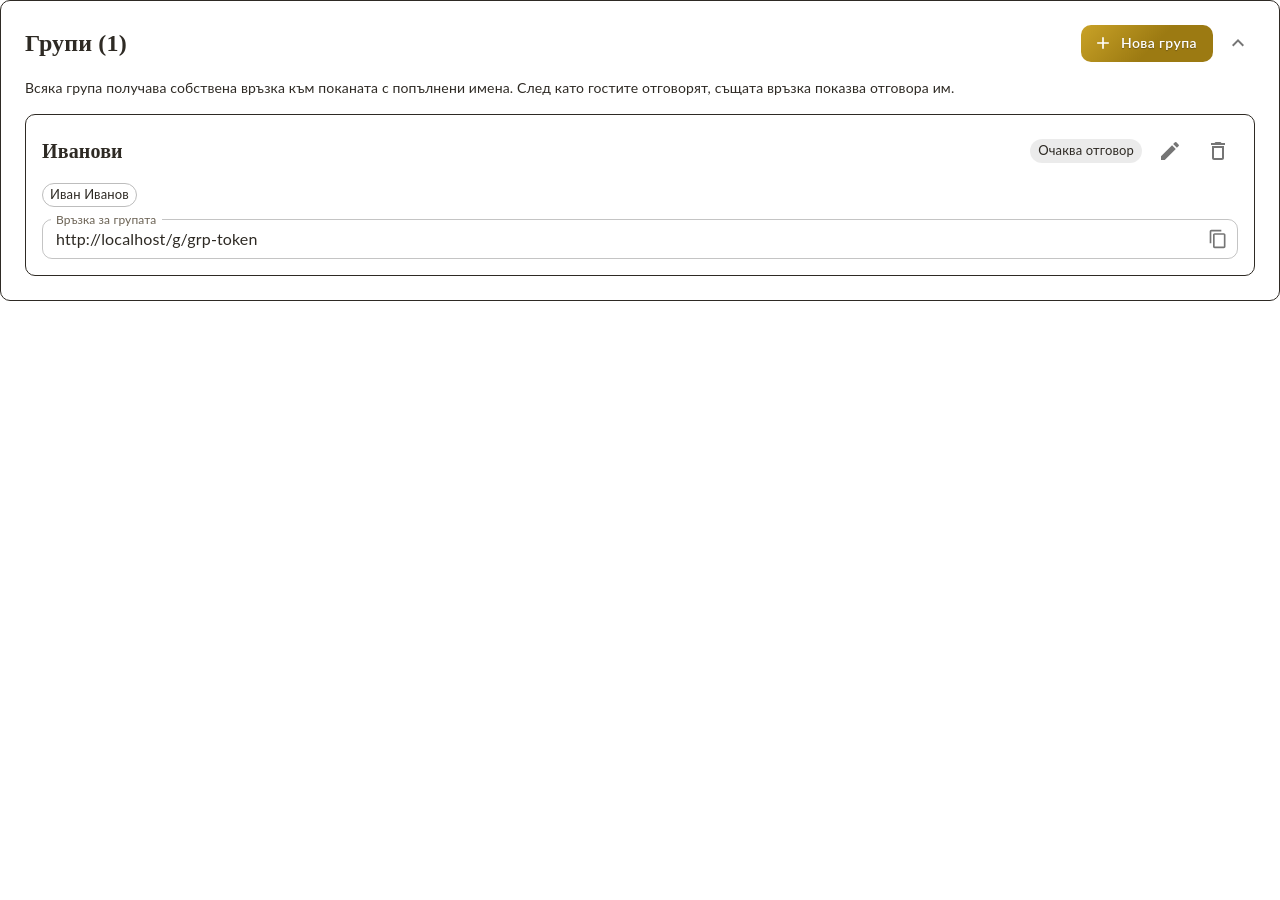
Test: GuestGroupsPanel › keeps the group and shows the error when deleting fails
Step 1. Click the button named "Изтрий Иванови" → point(1218, 150), box [1198,130,1238,170]
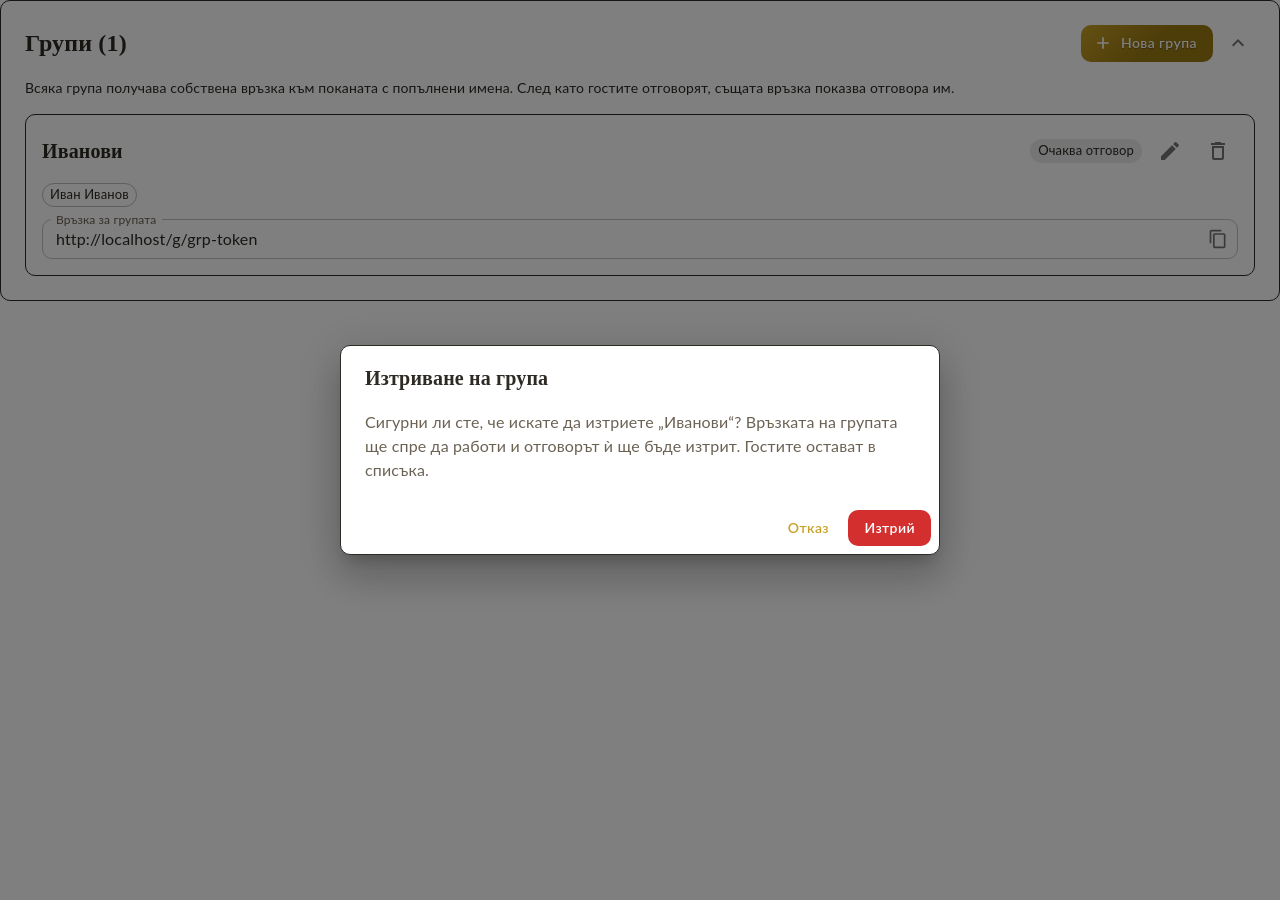
Step 2. Click the button "Изтрий" → point(890, 528), box [848,510,931,546]
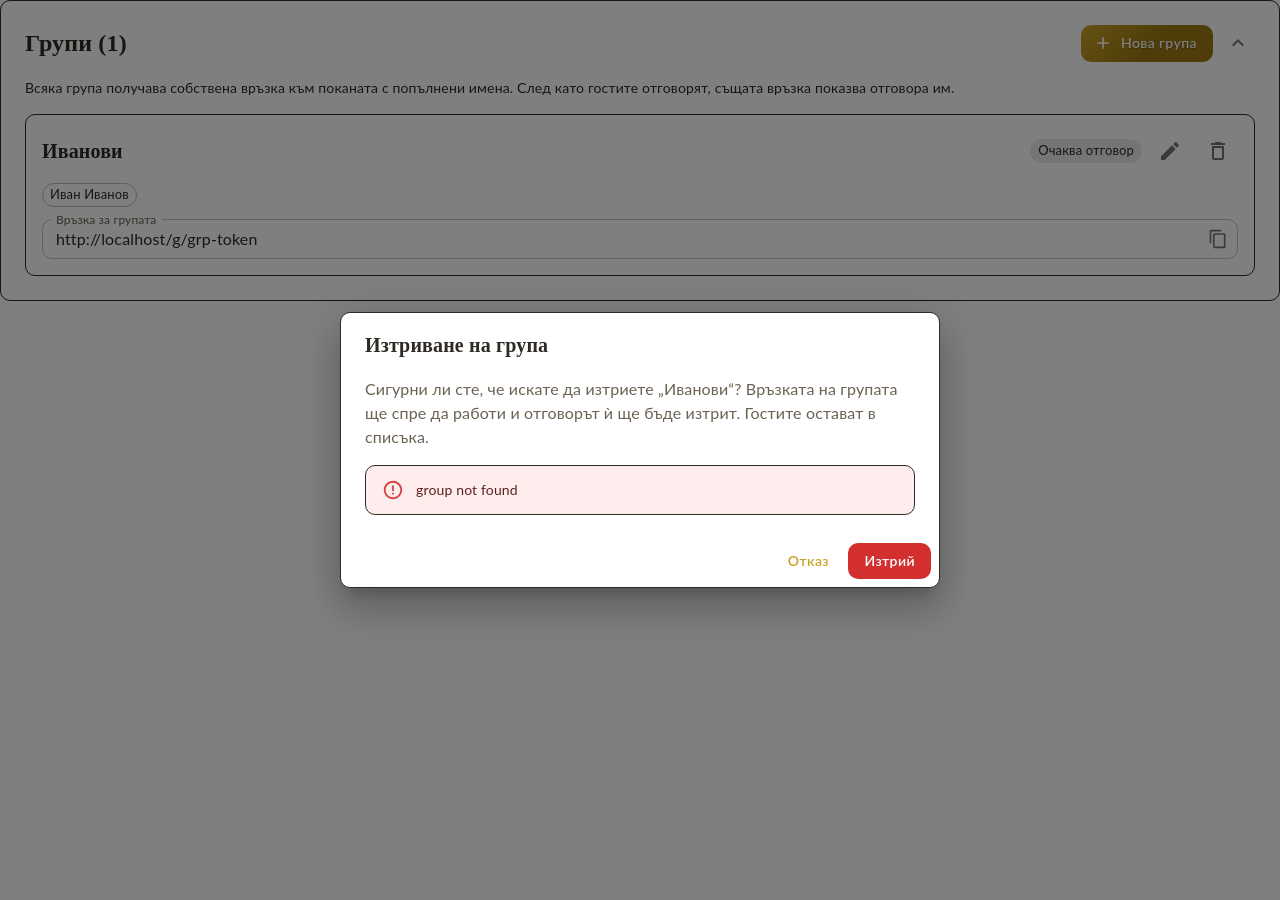
Expected: the element "Иванови" is shown, [25,114,1255,276]
Expected: the text "group not found" is shown, [416,481,518,498]
